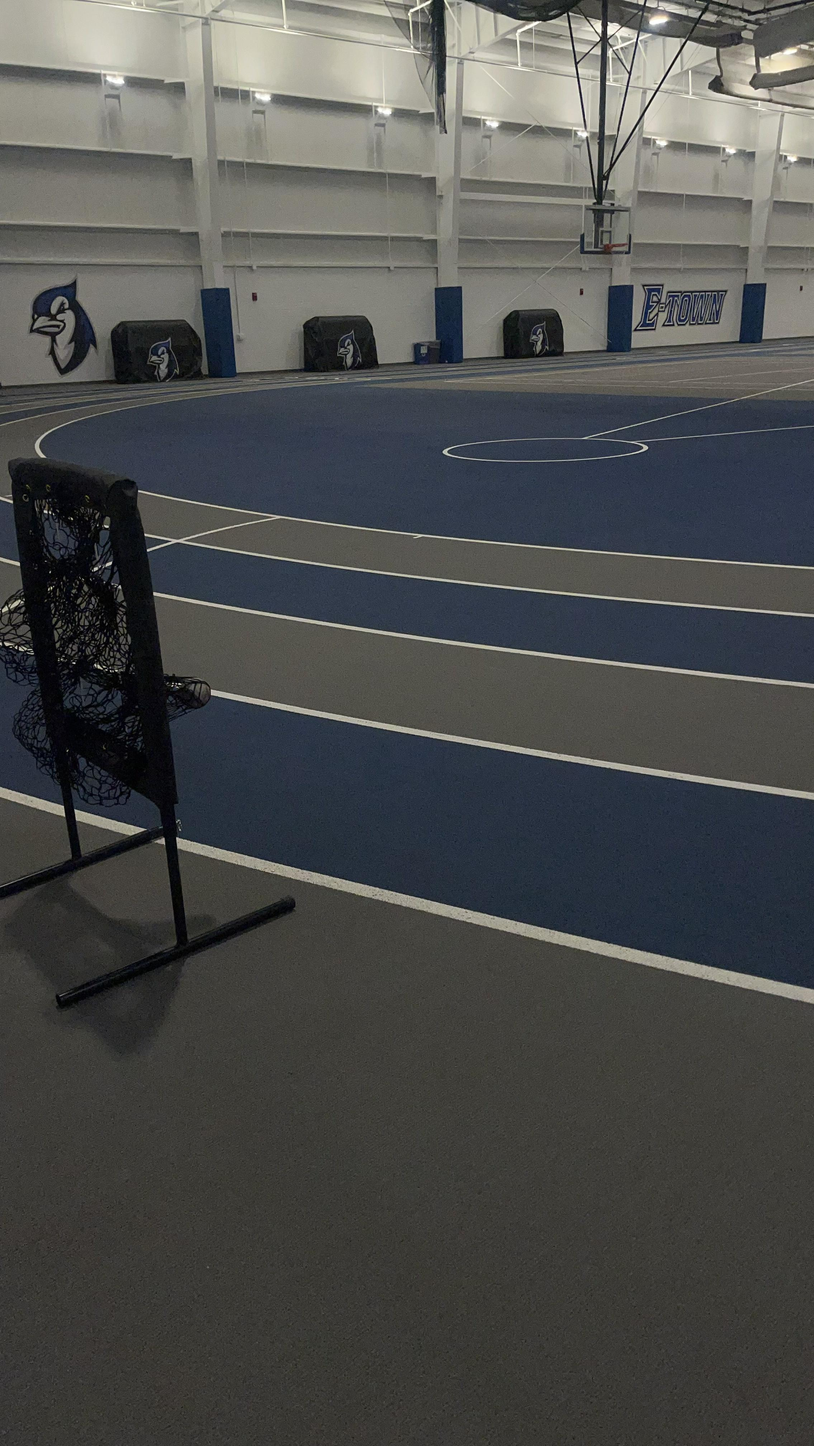Baseball: (181, 678, 213, 708)
